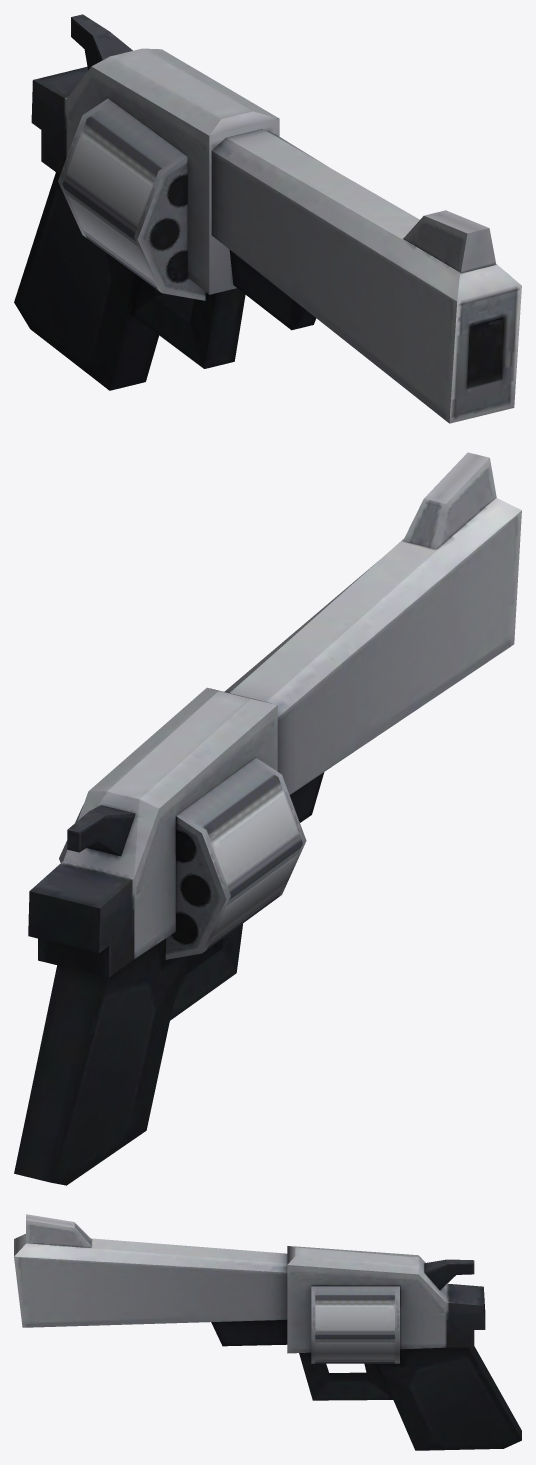
Rendered from 44_magnum_248da17a__44_Magnum_b4373b2d_c1f257.obj.
3 views of the same model, one above another, from view 1: azimuth 30°, elevation 25°; view 2: azimuth 150°, elevation 25°; view 3: azimuth 270°, elevation 25° (orthographic). The views are drawn at different scales.
Size of the model in its own units: 0.1298 by 0.306 by 0.6152.
Materials: 1 (1 with a texture image).
